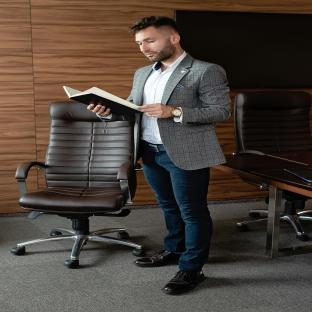Human: (87, 16, 232, 294)
